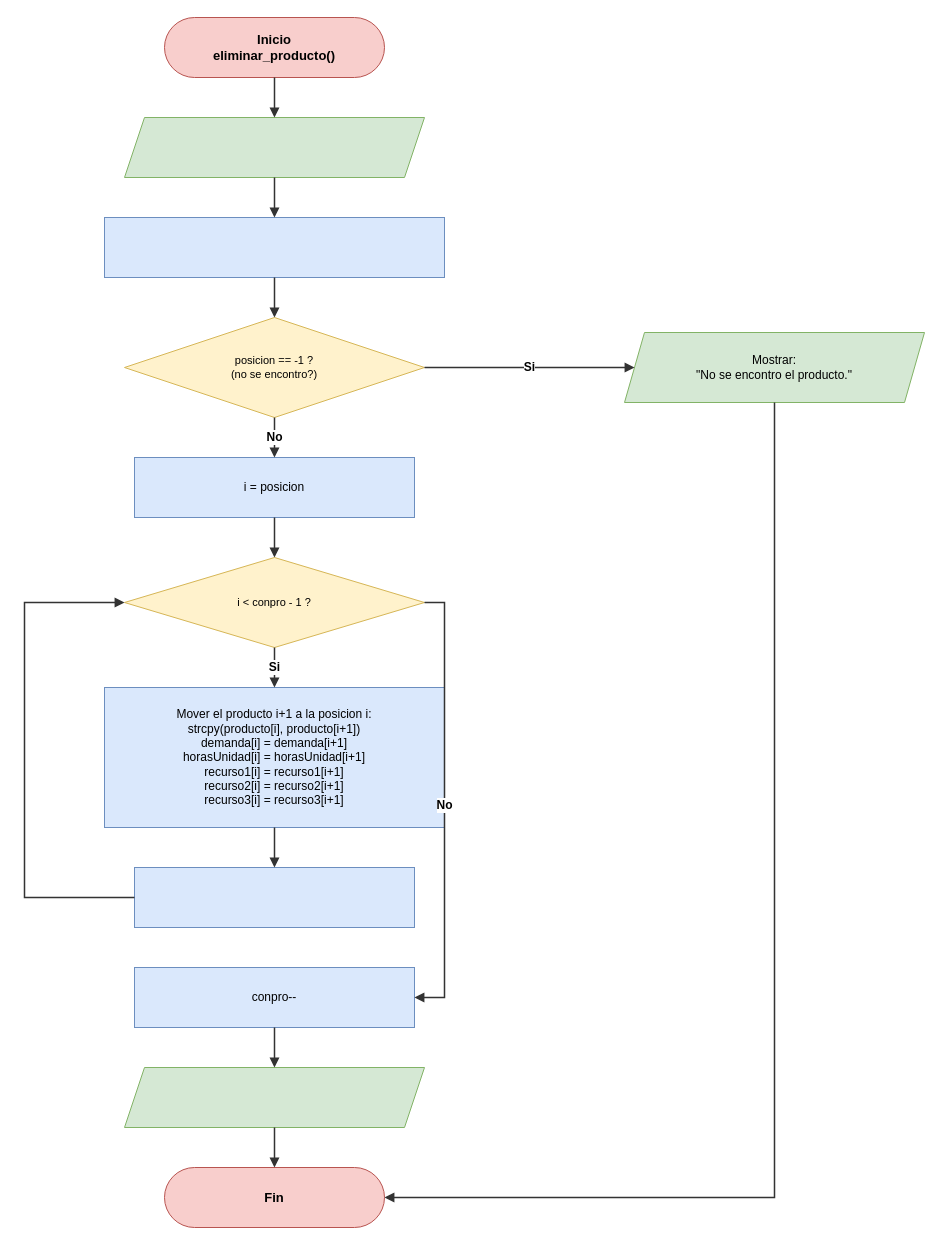
Some shapes in this 943 by 1245 pixel diagram are drawn without their labels. Each missing label, with the centre of its shape:
i++: pixel 274 897
Leer nombreBuscado (nombre del producto a eliminar): pixel 274 147
Mostrar: "Producto eliminado.": pixel 274 1097
posicion = buscar_producto(nombreBuscado): pixel 274 247
